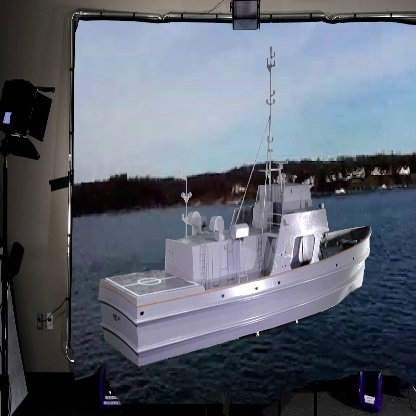YP689: (99, 46, 373, 370)
